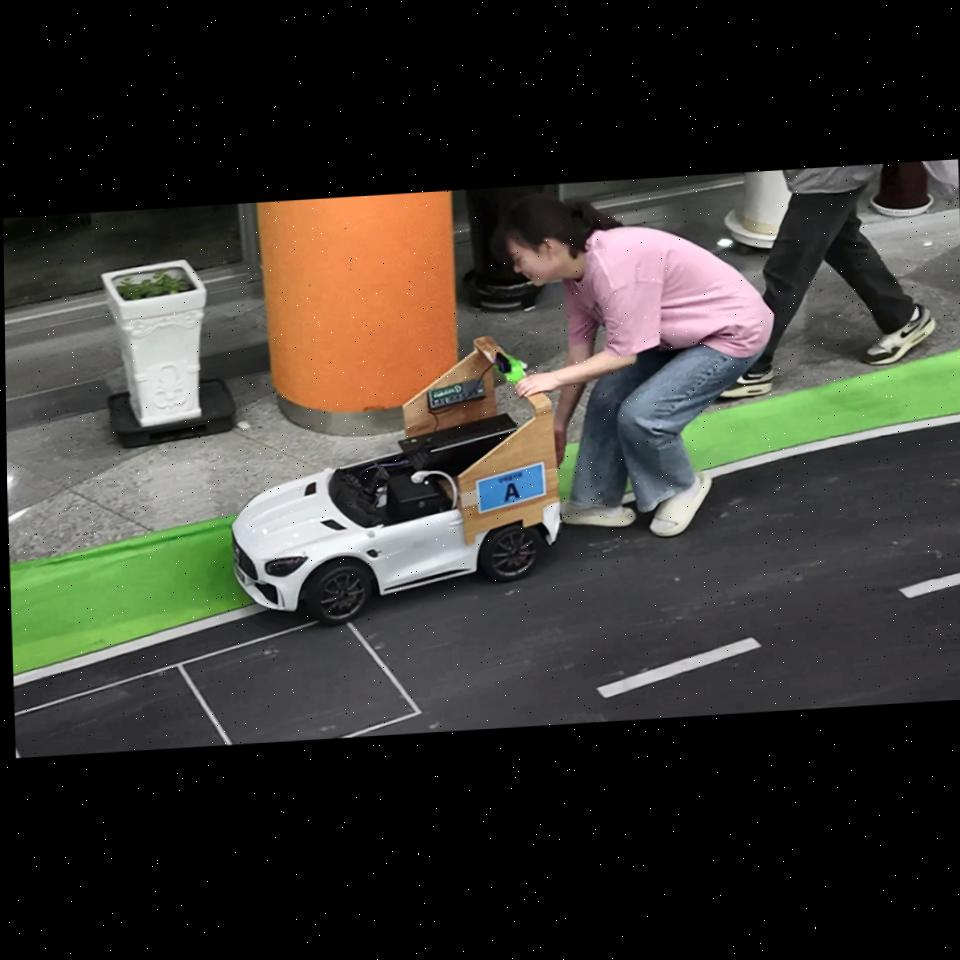broken_line: (597, 638, 761, 697), (900, 572, 960, 598)
